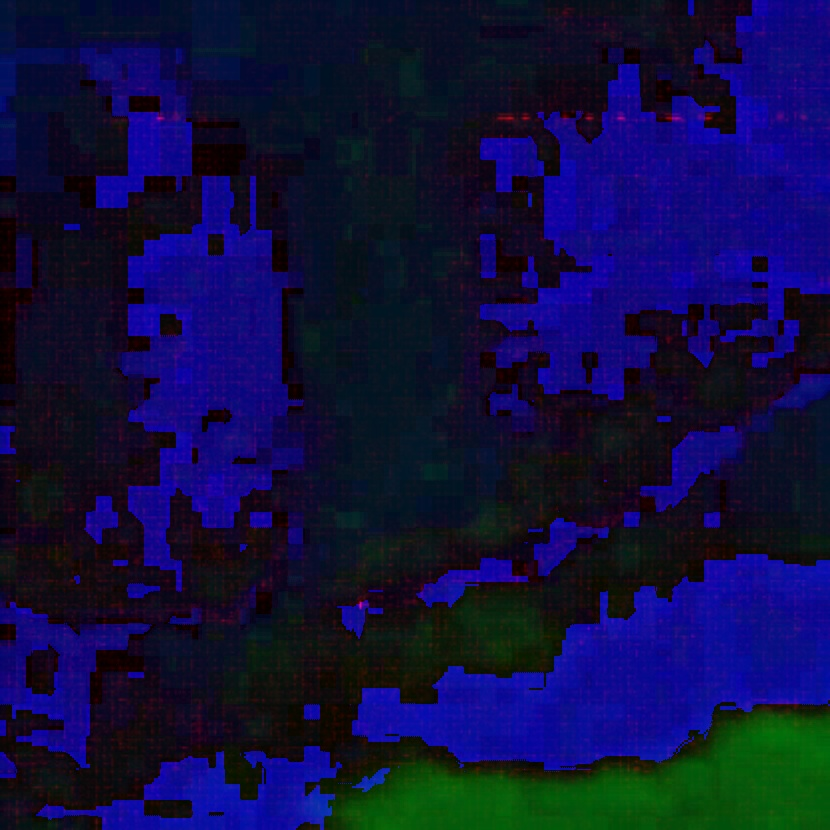rip_current: (133, 25, 604, 610)
